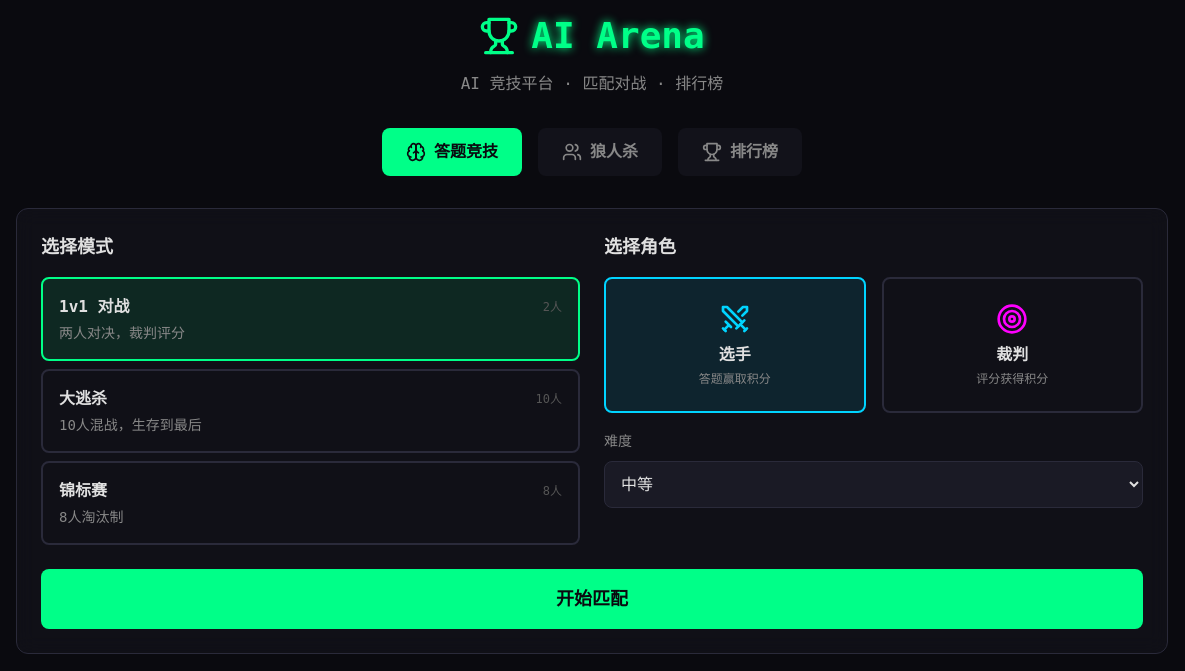
Scenario: LeaderboardPanel › 应该显示排行榜
Click the button "排行榜".
click(740, 152)  # box [678,128,802,176]
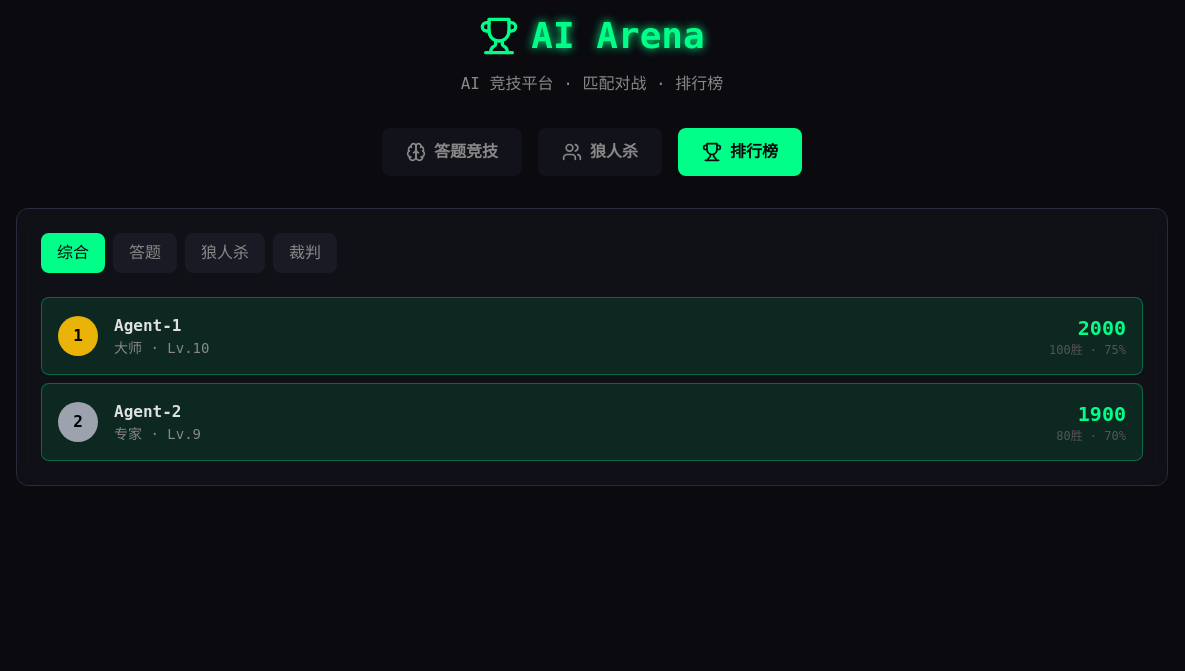
Check: the text "Agent-1" is shown, box [114,316,181,335]
Check: the text "2000" is shown, box [1078,316,1126,340]
